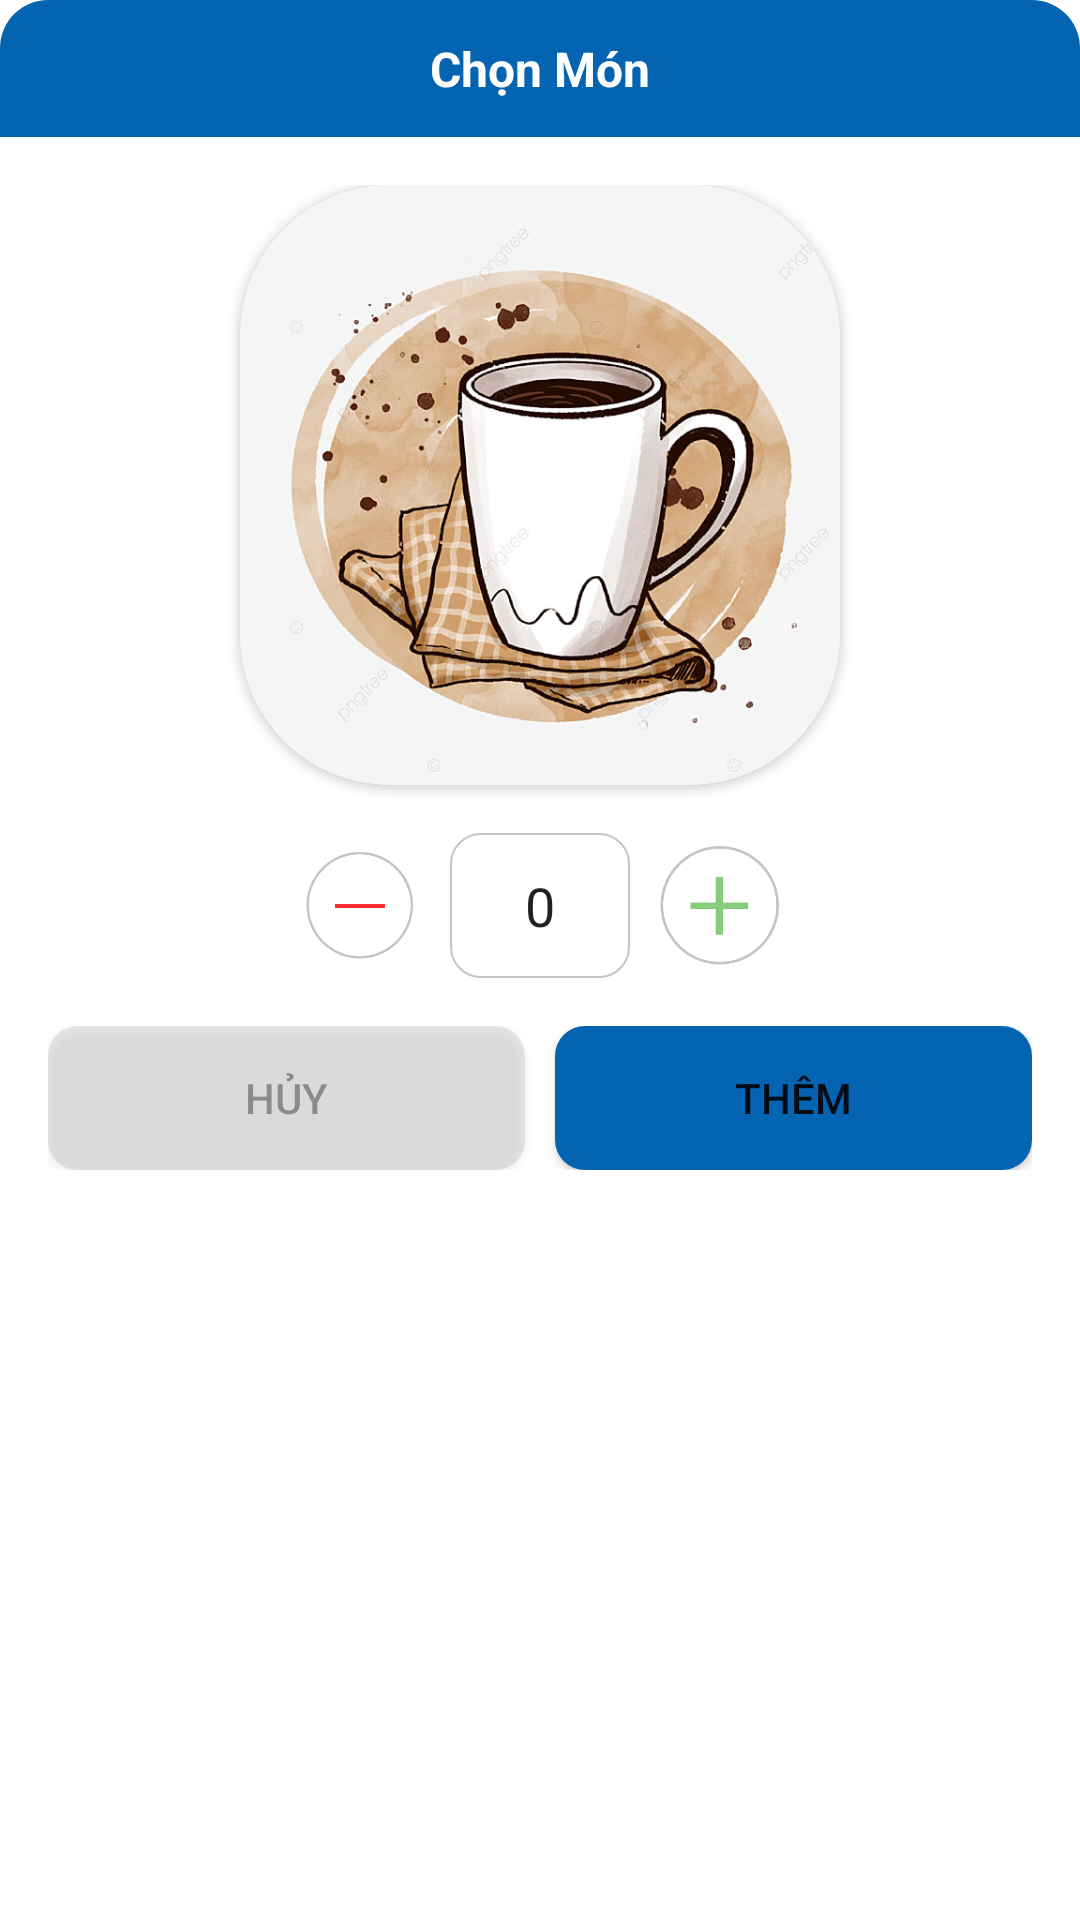

Icon bounding boxes for this 1080 × 1920 phone screenshot, format (x1, y1, x2, y2):
icongiam: (306, 852, 413, 959)
icontang: (660, 846, 779, 965)
